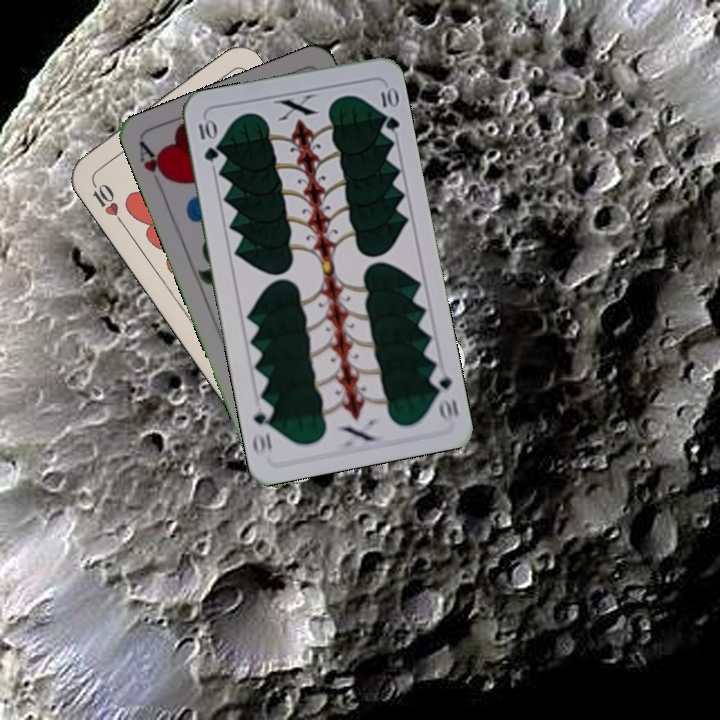G10: (426, 366, 461, 422), (194, 115, 221, 165)
H10: (87, 174, 126, 227)
HA: (135, 138, 173, 185)
